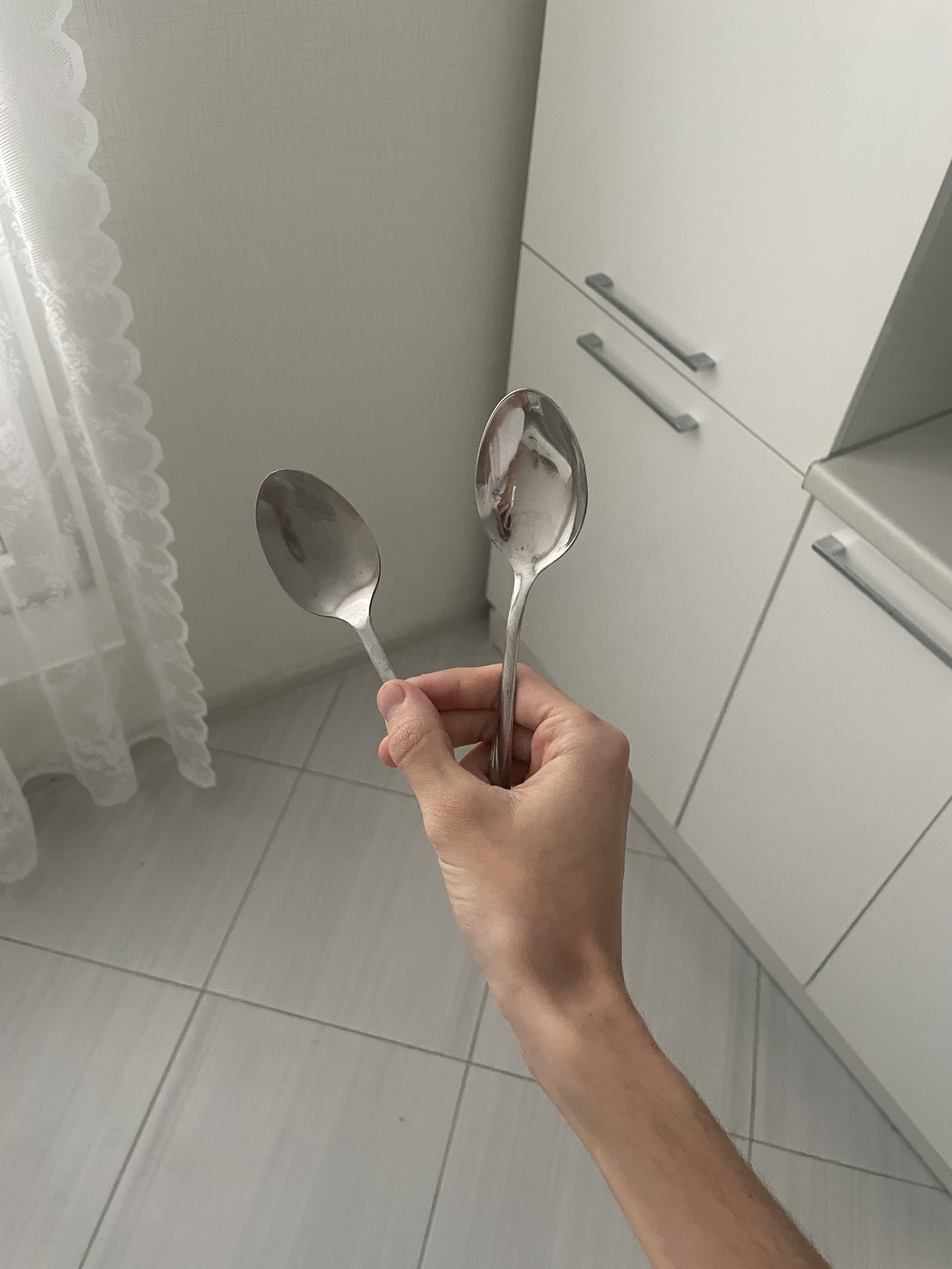spoon: (476, 389, 588, 787), (256, 469, 398, 682)
